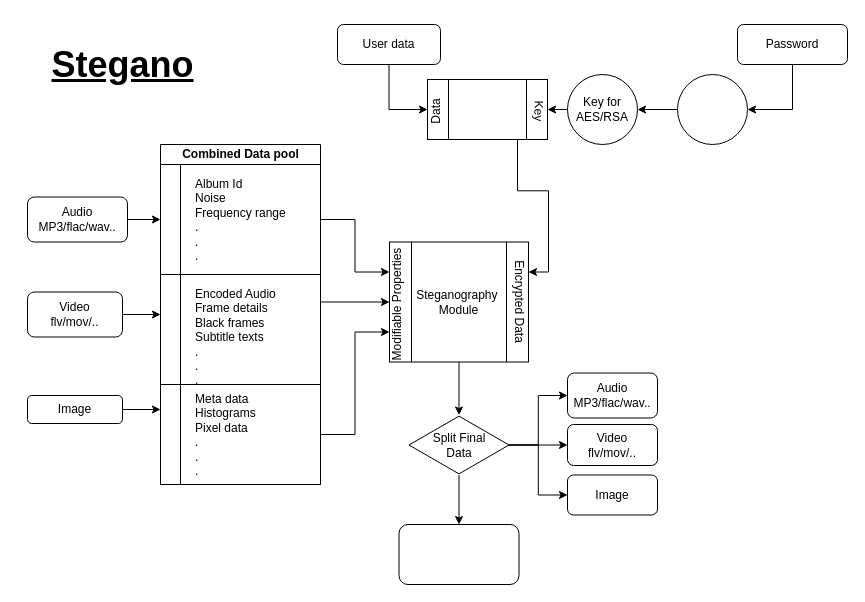
This 865x602 diagram has some shape labels left out. The shapes that lost their labels are listed below. From the top down, each one's box as (x1, y1, x2, y2) in pixels, then its label:
(426, 78, 548, 140): Encryption Module
(676, 74, 748, 144): Hash generation SHA-256/512
(160, 164, 320, 274): Audio Properties
(160, 274, 320, 384): Video Properties
(160, 384, 320, 484): Image porperties
(398, 524, 519, 584): Final Data
